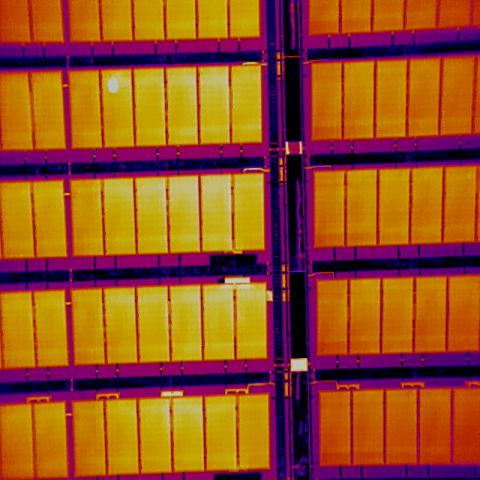fault: (108, 75, 122, 95)
